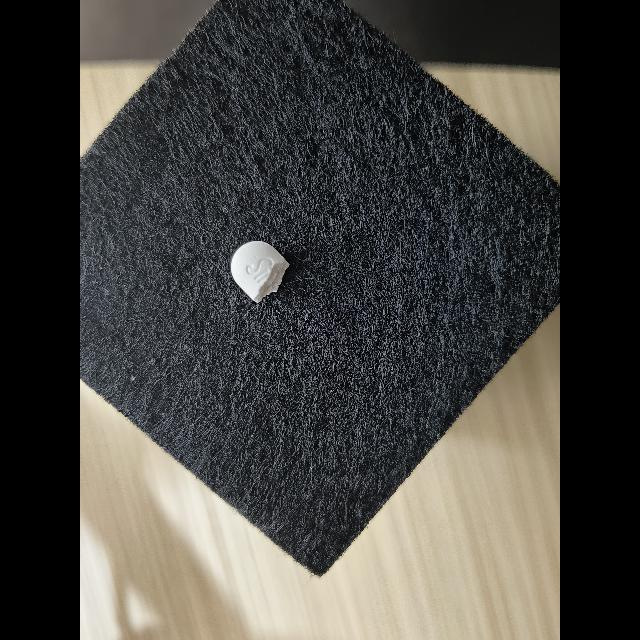Chipped Pill: (231, 241, 290, 303)
